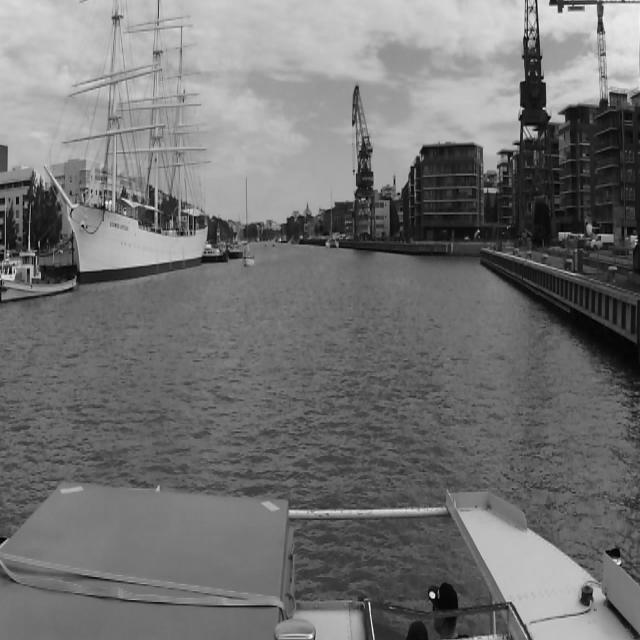ship: (44, 17, 208, 286), (2, 247, 76, 302), (244, 178, 253, 266), (326, 187, 338, 249), (202, 244, 228, 262), (229, 242, 243, 258)
